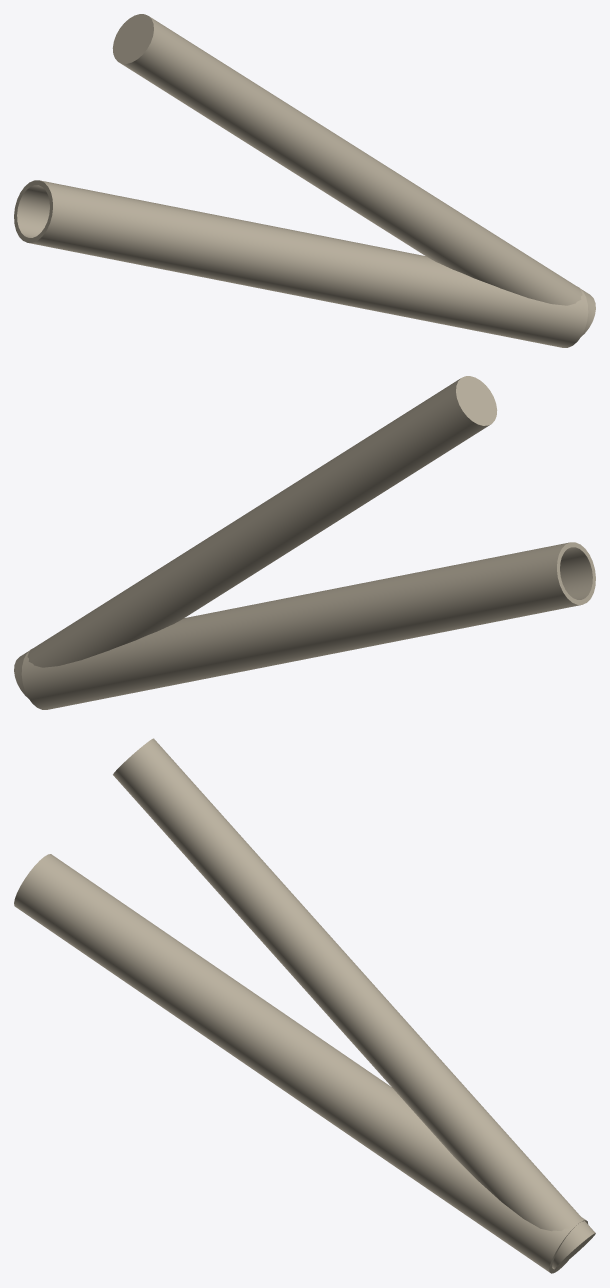
Rendered from original-33.obj.
The picture shows the model from 3 angles, top to bottom: view 1: azimuth 30°, elevation 25°; view 2: azimuth 150°, elevation 25°; view 3: azimuth 330°, elevation 25°; orthographic projection.
Parts seen in each view (by area): view 1: mesh45/mesh45-geometry#mesh45-geometry; view 2: mesh45/mesh45-geometry#mesh45-geometry; view 3: mesh45/mesh45-geometry#mesh45-geometry.
Part boxes in pixels (x1,y1,x2,y2): mesh45/mesh45-geometry#mesh45-geometry: (14,14,595,347); mesh45/mesh45-geometry#mesh45-geometry: (14,376,595,709); mesh45/mesh45-geometry#mesh45-geometry: (14,738,595,1273).
Size of the model in its own units: 0.2862 by 0.207 by 0.0287.
